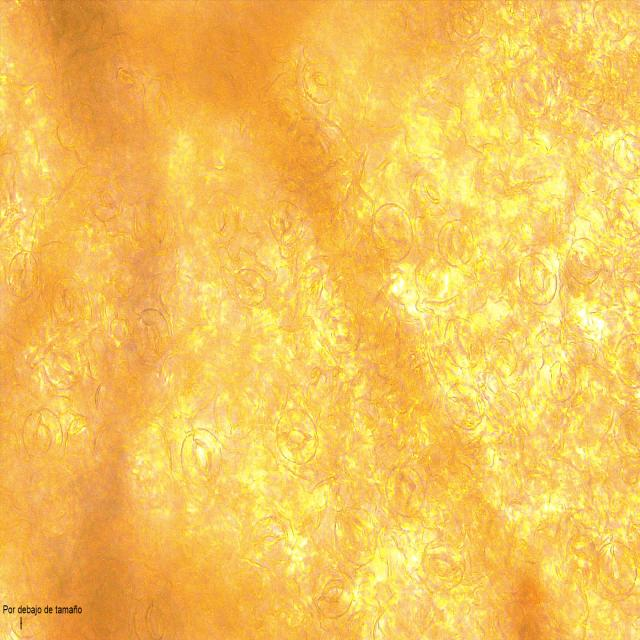Stomata: (178, 426, 228, 489), (141, 71, 188, 138), (368, 200, 417, 263), (131, 188, 176, 256), (332, 505, 378, 569), (308, 566, 360, 621), (274, 406, 320, 466), (420, 535, 468, 592), (516, 250, 561, 308), (204, 188, 245, 251), (22, 405, 65, 464), (132, 305, 173, 366), (384, 462, 426, 520), (596, 539, 638, 597), (509, 62, 551, 120), (442, 316, 485, 372), (39, 338, 84, 391), (212, 388, 256, 442), (247, 513, 293, 564), (434, 217, 478, 270), (132, 592, 180, 640), (564, 235, 608, 287), (443, 382, 488, 432), (322, 304, 363, 358), (84, 176, 128, 226), (601, 186, 640, 242), (412, 168, 453, 220), (268, 195, 306, 249), (300, 54, 341, 104), (48, 274, 86, 326), (565, 236, 604, 286), (590, 0, 632, 45), (446, 0, 488, 42), (4, 249, 38, 299), (613, 330, 640, 392), (232, 266, 270, 308), (611, 407, 640, 460), (611, 130, 640, 183), (545, 359, 579, 404), (564, 531, 598, 575), (488, 337, 520, 379)
